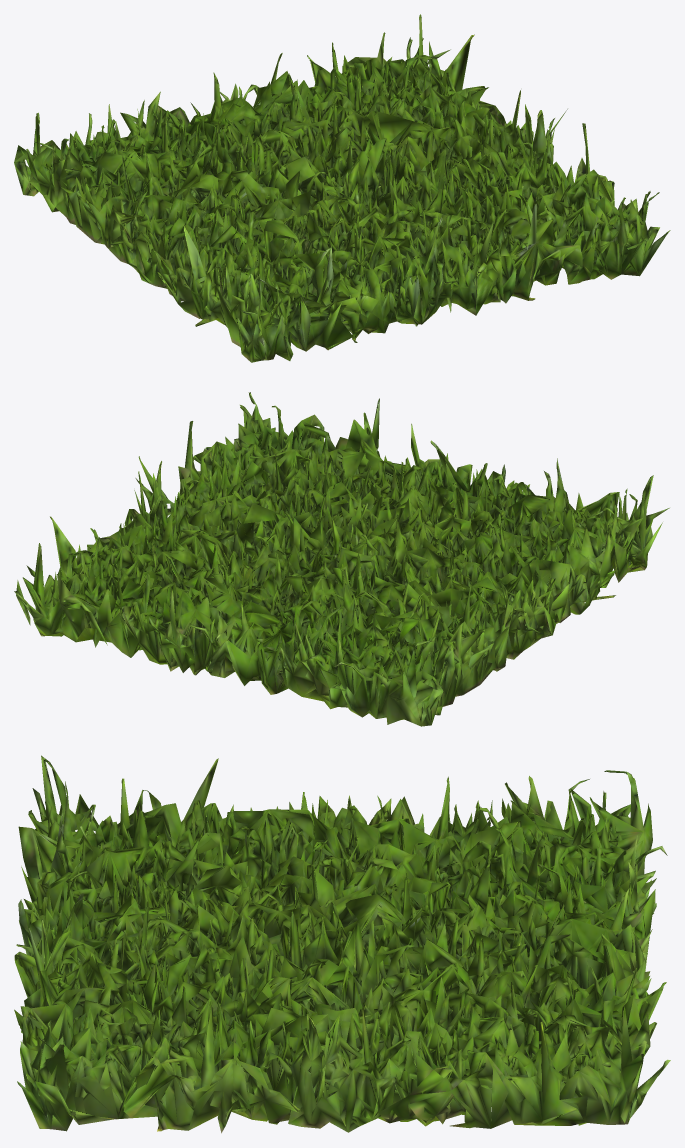
The model's file is Meshy_AI_Grass_Island_1115233312_texture.glb.
The picture shows the model from 3 angles, top to bottom: view 1: azimuth 30°, elevation 25°; view 2: azimuth 150°, elevation 25°; view 3: azimuth 270°, elevation 25°; orthographic projection. The views are drawn at different scales.
Size of the model in its own units: 1.98 by 0.4479 by 1.98.
Materials: 1 (1 with a texture image).
